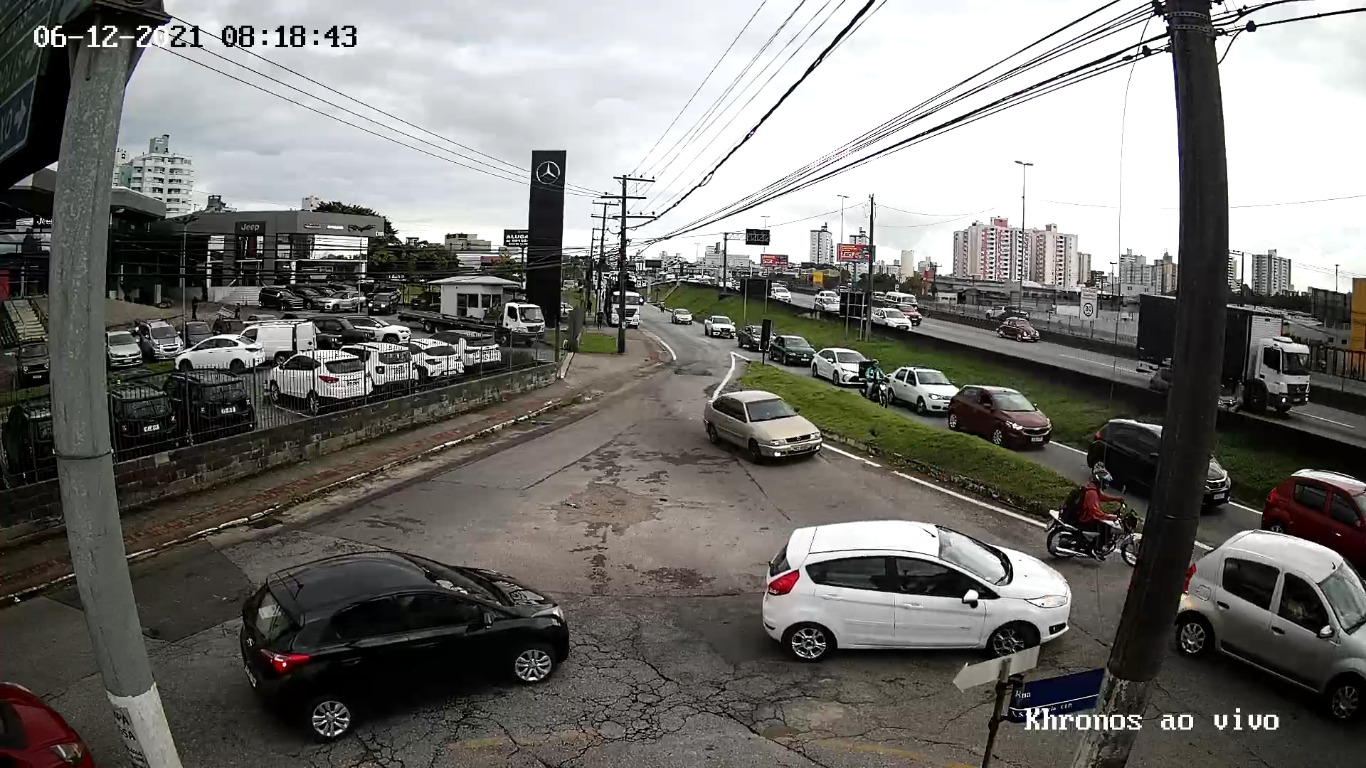car: (238, 549, 571, 741), (761, 521, 1072, 664), (1172, 527, 1366, 721), (703, 391, 822, 464)
